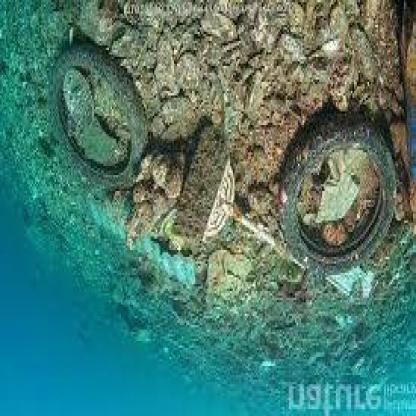misc: (180, 104, 236, 260)
tire: (277, 100, 398, 284), (45, 48, 162, 218)
